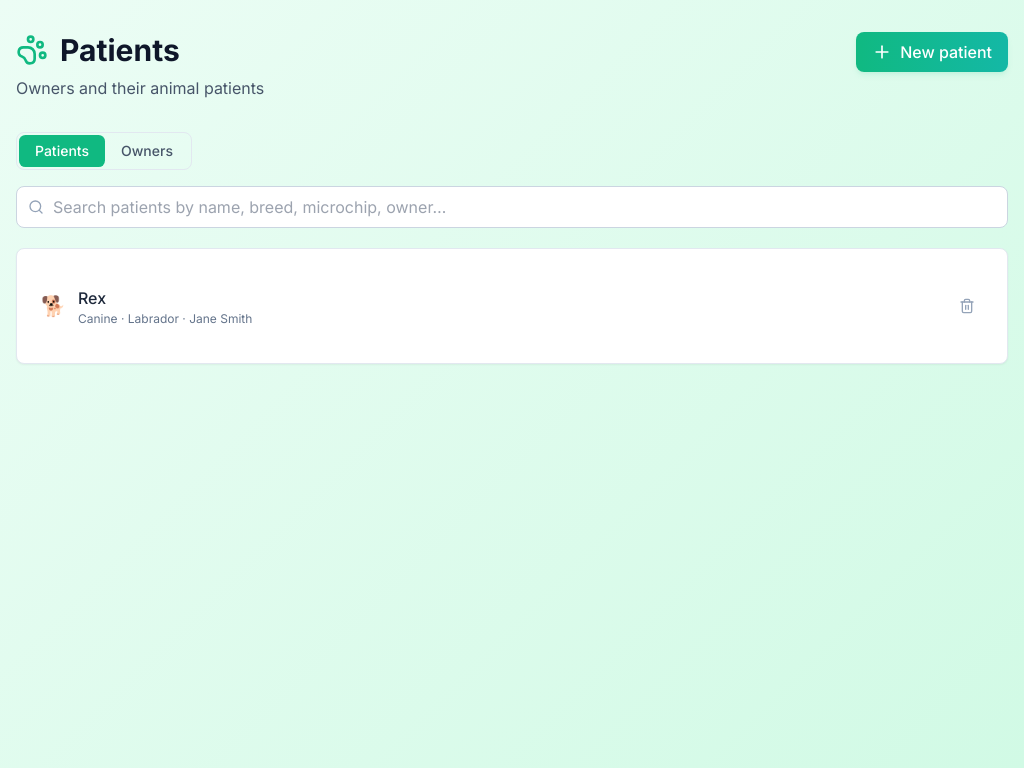
Test case: PatientsPage › opens a patient detail with the VHS panel and latest score
Click the text "Rex" at (92, 298), box x1=78 y1=288 x2=106 y2=308
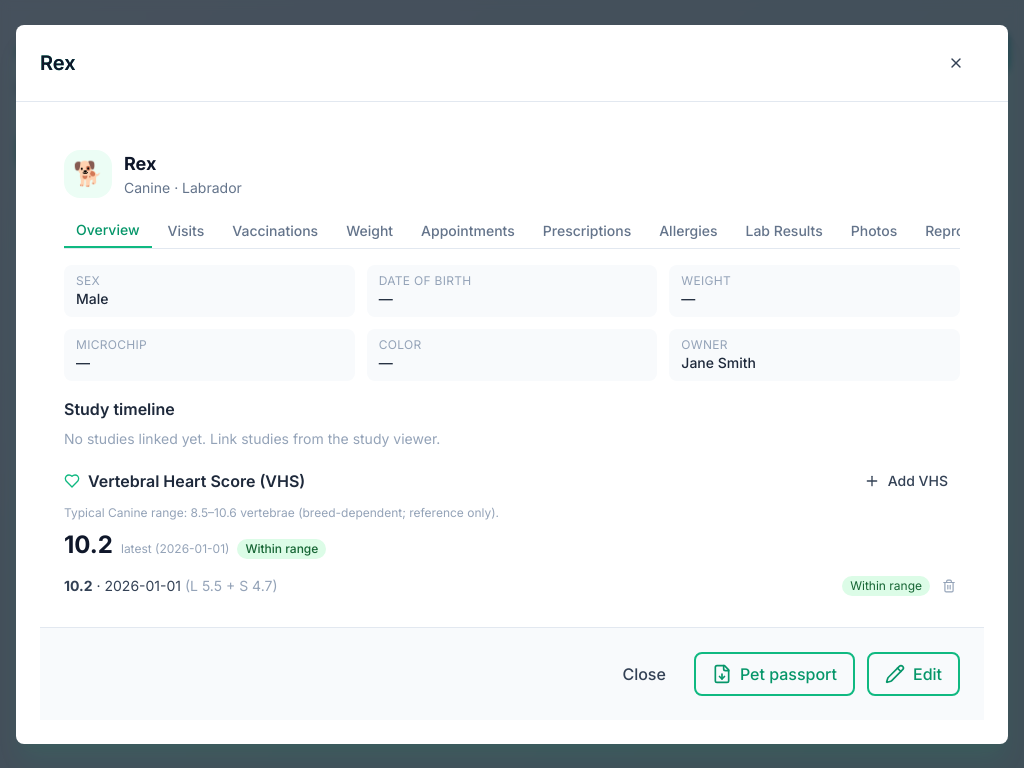
Now the heading "Vertebral Heart Score (VHS)" is shown, box x1=64 y1=468 x2=305 y2=492
Now the text "10.2" next to "latest" is shown, box x1=64 y1=530 x2=113 y2=558
Now the text "Within range" in the row of "latest" is shown, box x1=245 y1=540 x2=318 y2=556
